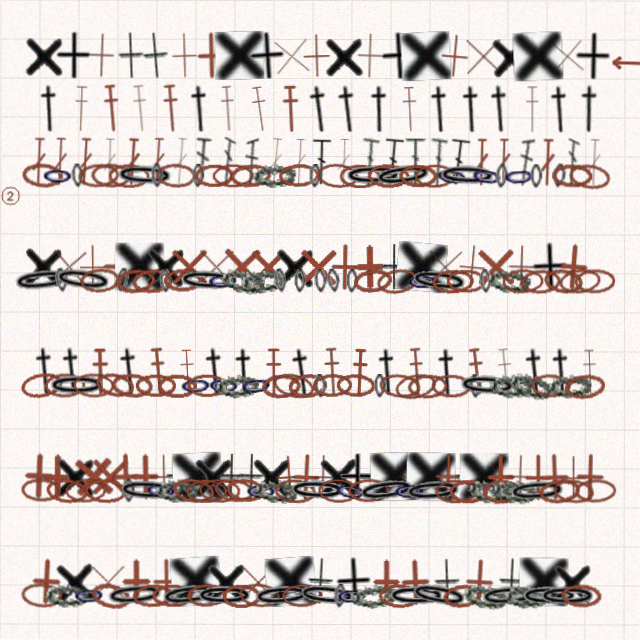chain: (408, 579, 471, 612), (372, 160, 434, 191), (52, 265, 114, 296), (356, 475, 418, 506), (159, 580, 221, 611), (11, 266, 73, 296), (408, 266, 470, 296), (105, 581, 166, 610), (297, 581, 358, 610), (403, 477, 464, 505), (507, 477, 568, 505), (252, 582, 313, 610), (479, 582, 540, 610), (457, 372, 518, 399), (114, 163, 175, 189), (177, 268, 238, 294), (117, 478, 178, 504), (507, 369, 555, 402), (343, 163, 403, 188), (437, 163, 497, 188), (288, 478, 348, 503), (47, 374, 107, 398), (271, 370, 316, 402), (393, 370, 438, 402), (195, 584, 255, 608), (387, 584, 447, 608), (520, 584, 580, 608), (538, 584, 598, 608), (219, 266, 266, 296), (239, 266, 286, 296), (351, 581, 398, 611), (462, 581, 509, 611), (89, 580, 133, 612), (19, 370, 64, 401), (93, 370, 137, 401), (567, 161, 612, 191), (375, 266, 420, 296), (171, 476, 216, 505), (214, 372, 260, 400), (467, 477, 513, 505), (558, 266, 602, 295), (542, 266, 585, 295), (538, 476, 581, 505), (378, 372, 422, 400), (45, 477, 89, 505), (213, 476, 255, 505), (251, 162, 296, 189), (486, 267, 531, 294), (547, 372, 592, 399), (563, 372, 606, 400), (552, 477, 595, 505), (114, 267, 156, 295), (352, 267, 394, 295), (442, 582, 484, 610), (254, 478, 299, 504), (492, 478, 537, 504), (504, 583, 549, 609), (316, 162, 359, 189), (238, 582, 281, 609), (21, 162, 63, 189), (111, 372, 153, 399), (287, 372, 329, 399), (225, 477, 267, 504), (21, 582, 63, 609), (431, 268, 474, 294), (84, 478, 127, 504), (274, 478, 317, 504), (79, 267, 120, 294), (489, 373, 533, 398), (155, 478, 199, 503), (45, 583, 89, 608), (77, 163, 119, 189), (229, 163, 271, 189), (131, 268, 173, 294), (407, 373, 449, 399), (132, 583, 174, 609), (378, 583, 421, 608), (520, 268, 561, 294), (261, 373, 302, 399), (367, 163, 409, 188), (502, 268, 544, 293), (44, 373, 86, 398), (65, 478, 107, 503), (199, 478, 241, 503), (575, 478, 617, 503), (560, 583, 602, 608), (90, 163, 131, 188), (155, 163, 196, 188), (278, 163, 319, 188), (551, 163, 592, 188), (574, 268, 615, 293), (73, 373, 114, 398), (312, 373, 353, 398), (530, 373, 571, 398), (21, 478, 62, 503), (318, 478, 359, 503), (348, 478, 389, 503), (187, 583, 228, 608), (282, 583, 323, 608), (108, 164, 150, 188), (469, 162, 505, 190), (333, 477, 369, 505), (163, 268, 203, 293), (336, 373, 376, 398), (212, 164, 253, 188), (339, 164, 380, 188), (414, 164, 455, 188), (135, 374, 176, 398), (187, 374, 228, 398), (186, 479, 227, 503), (435, 479, 476, 503), (482, 479, 523, 503), (152, 584, 193, 608), (434, 162, 469, 190), (194, 164, 234, 188), (398, 164, 438, 188), (446, 269, 486, 293), (157, 374, 197, 398), (431, 374, 471, 398), (449, 479, 489, 503), (222, 584, 262, 608), (239, 372, 274, 399), (144, 477, 179, 504), (502, 163, 536, 189), (206, 268, 240, 293), (179, 373, 213, 398), (207, 373, 241, 398), (393, 478, 426, 503), (73, 583, 106, 608), (336, 583, 369, 608), (41, 164, 74, 188), (406, 269, 439, 293), (245, 479, 278, 503), (54, 268, 69, 293), (115, 268, 130, 293), (273, 268, 288, 293), (326, 268, 341, 293), (552, 163, 566, 188), (71, 164, 84, 188), (495, 164, 508, 188), (159, 269, 172, 293), (314, 269, 327, 293), (479, 269, 492, 293), (314, 374, 327, 398), (469, 374, 482, 398), (334, 584, 347, 608), (151, 164, 163, 188), (192, 164, 204, 188), (309, 164, 321, 188), (530, 164, 542, 188), (294, 269, 306, 293), (346, 269, 358, 293), (374, 374, 386, 398), (123, 479, 135, 503)
double: (446, 137, 471, 187), (381, 137, 405, 186), (357, 137, 380, 186), (426, 137, 448, 186), (311, 138, 332, 186), (405, 138, 426, 186), (265, 137, 285, 186), (171, 137, 190, 186), (193, 137, 212, 186), (516, 137, 535, 186), (123, 138, 142, 186), (148, 138, 167, 186), (51, 138, 69, 186), (76, 138, 94, 186), (290, 138, 308, 186), (585, 138, 603, 186), (219, 137, 236, 186), (30, 138, 47, 186), (101, 138, 118, 186), (335, 138, 352, 186), (473, 138, 490, 186), (495, 138, 512, 186), (539, 138, 556, 186), (564, 138, 580, 186), (244, 138, 259, 186)
half_double: (303, 84, 335, 134), (286, 347, 318, 397), (332, 84, 363, 134), (114, 347, 145, 396), (574, 84, 604, 133), (30, 347, 60, 396), (57, 347, 87, 396), (200, 347, 230, 396), (520, 347, 550, 396), (485, 84, 514, 133), (547, 347, 576, 396), (185, 85, 214, 133), (425, 85, 454, 133), (545, 85, 574, 133), (373, 348, 402, 396), (35, 85, 63, 133), (365, 85, 393, 133), (457, 85, 485, 133), (230, 348, 258, 396), (433, 348, 461, 396), (247, 84, 272, 134), (100, 84, 123, 133), (465, 347, 488, 396), (494, 347, 517, 396), (129, 84, 151, 133), (147, 347, 169, 396), (160, 84, 181, 133), (217, 84, 238, 133), (322, 347, 343, 396), (406, 347, 427, 396), (280, 85, 301, 133), (177, 348, 198, 396), (399, 85, 419, 133), (90, 348, 110, 396), (350, 348, 370, 396), (71, 85, 90, 133), (264, 348, 283, 396), (580, 348, 599, 396), (523, 85, 541, 133)
noise: (0, 185, 21, 207), (609, 56, 640, 69)
single: (395, 241, 448, 293), (265, 30, 317, 82), (170, 556, 222, 607), (265, 556, 317, 607), (428, 30, 479, 81), (541, 30, 592, 81), (43, 241, 94, 292), (446, 241, 497, 292), (548, 241, 599, 292), (68, 451, 119, 502), (263, 451, 314, 502), (400, 31, 451, 81), (512, 31, 563, 81), (172, 452, 223, 502), (281, 452, 331, 502), (386, 452, 436, 502), (22, 557, 72, 607), (391, 557, 441, 607), (455, 557, 505, 607), (214, 31, 264, 80), (370, 452, 420, 501), (406, 452, 456, 501), (519, 557, 569, 606), (77, 31, 126, 80), (159, 31, 208, 80), (186, 31, 235, 80), (291, 31, 340, 80), (345, 31, 394, 80), (458, 31, 507, 80), (92, 242, 141, 291), (191, 242, 240, 291), (217, 242, 266, 291), (420, 242, 469, 291), (471, 242, 520, 291), (497, 242, 546, 291), (15, 452, 64, 501), (101, 452, 150, 501), (139, 452, 188, 501), (298, 452, 347, 501), (424, 452, 473, 501), (496, 452, 545, 501), (530, 452, 579, 501), (566, 452, 615, 501), (115, 243, 164, 291), (460, 453, 509, 501), (68, 243, 116, 291), (165, 243, 213, 291), (244, 243, 292, 291), (294, 243, 342, 291), (321, 243, 369, 291), (346, 243, 394, 291), (33, 453, 81, 501), (86, 453, 134, 501), (122, 453, 170, 501), (477, 453, 525, 501), (514, 453, 562, 501), (549, 453, 597, 501), (84, 558, 132, 606), (113, 558, 161, 606), (143, 558, 191, 606), (234, 558, 282, 606), (363, 558, 411, 606), (488, 31, 534, 81), (53, 557, 99, 607), (21, 242, 66, 291), (143, 242, 188, 291), (317, 452, 362, 501), (22, 32, 66, 80), (322, 32, 366, 80), (273, 243, 317, 291), (54, 453, 98, 501), (192, 453, 236, 501), (250, 453, 294, 501), (205, 558, 249, 606), (551, 558, 595, 606), (246, 31, 286, 81), (378, 31, 417, 81), (334, 557, 373, 606), (530, 242, 568, 291), (573, 32, 611, 80), (54, 32, 91, 80), (338, 453, 375, 501), (356, 453, 393, 501), (141, 31, 170, 81), (308, 557, 335, 606), (499, 557, 526, 606), (118, 32, 144, 80), (219, 453, 245, 501), (239, 453, 265, 501), (435, 558, 461, 606), (382, 243, 407, 291), (167, 453, 192, 501), (456, 453, 481, 501)
